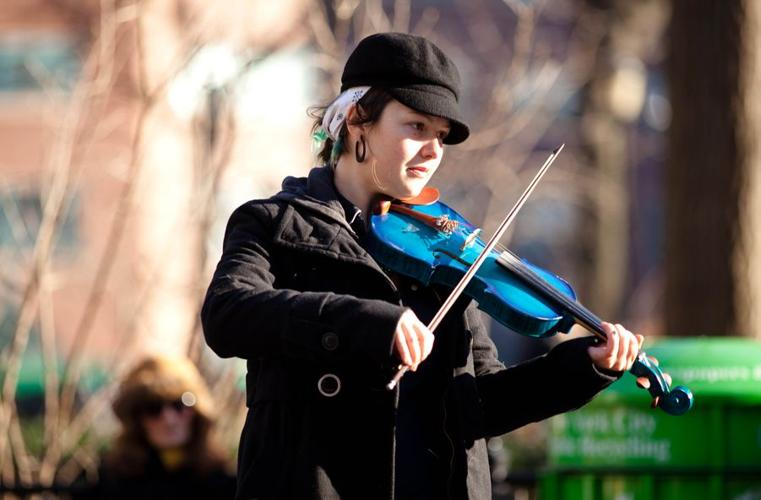person: (201, 35, 643, 500)
